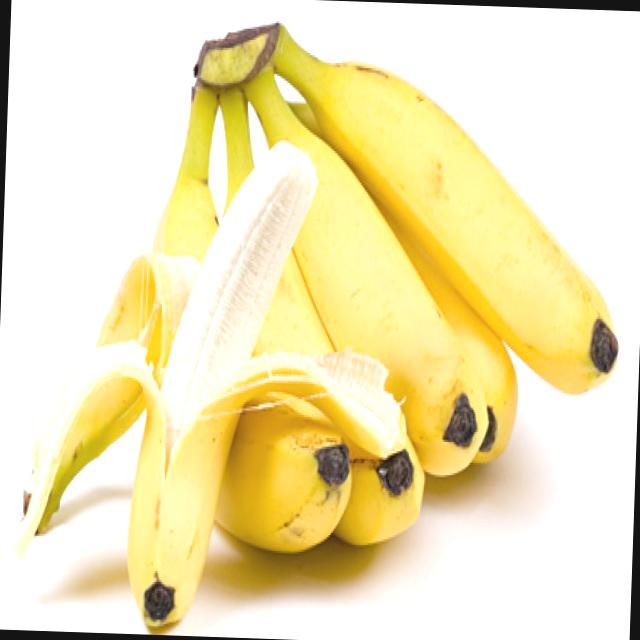banana: (274, 23, 626, 410), (242, 90, 526, 481), (196, 118, 430, 544), (114, 157, 256, 636)
